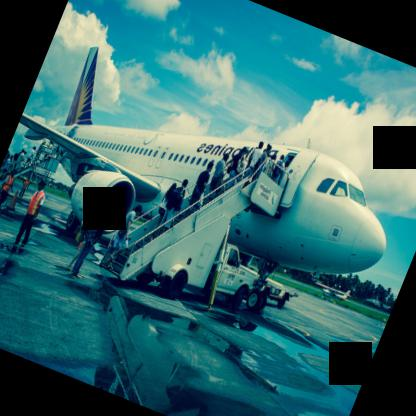backpack: (164, 187, 183, 212), (272, 160, 282, 177)
